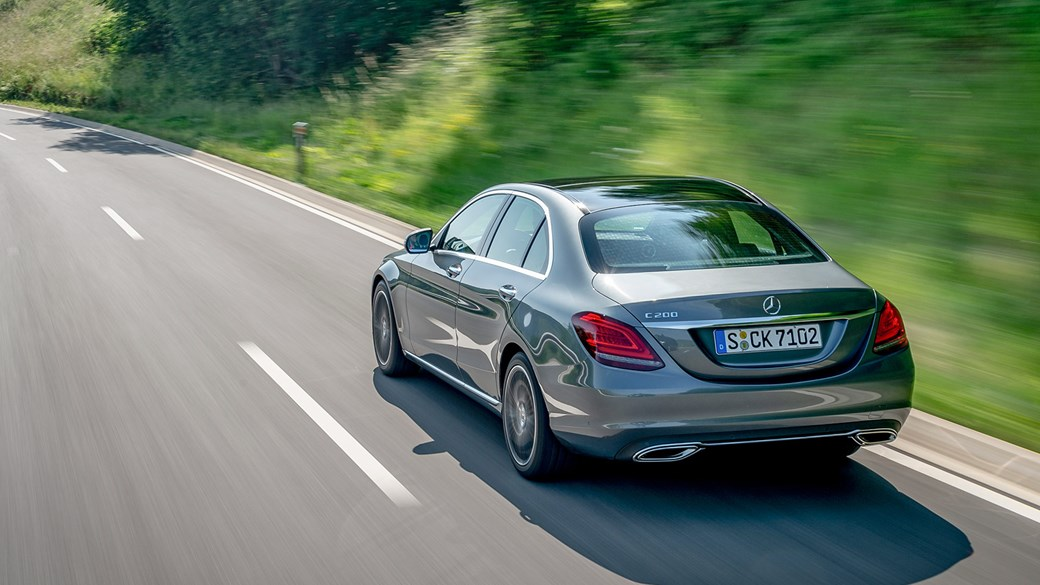cclass: (365, 164, 943, 508)
